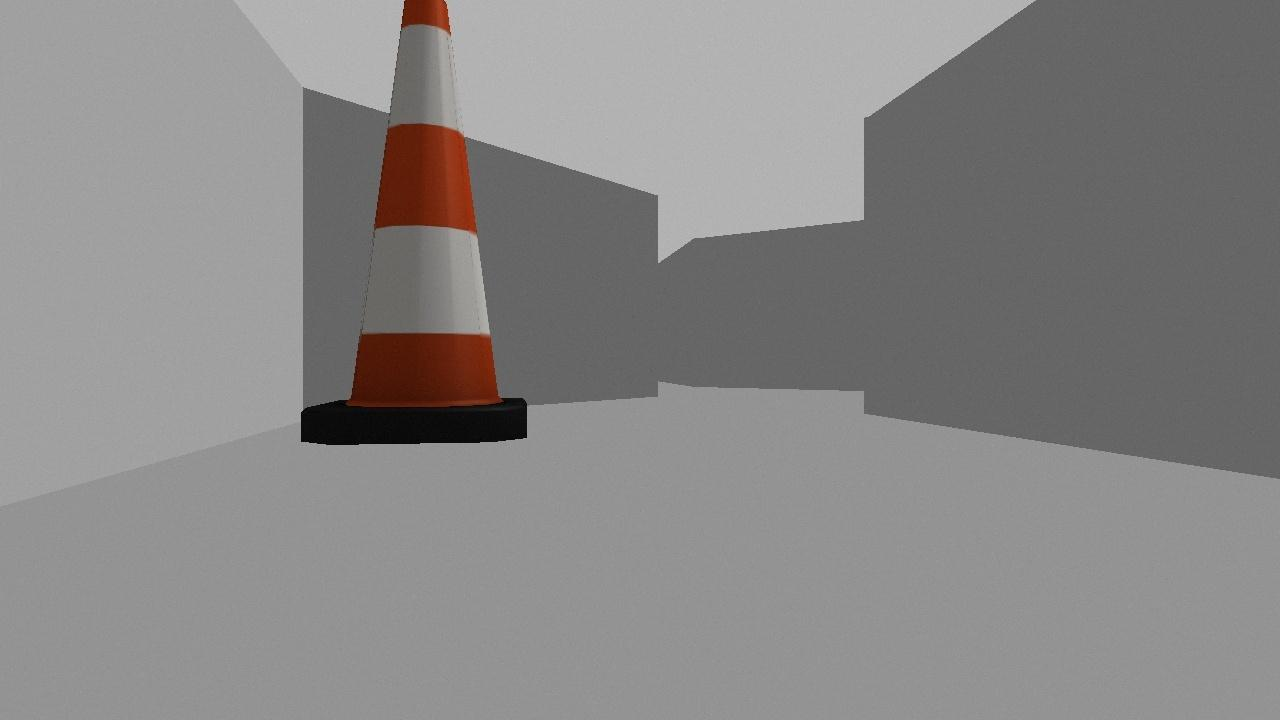cone_barrel: (289, 0, 526, 444)
